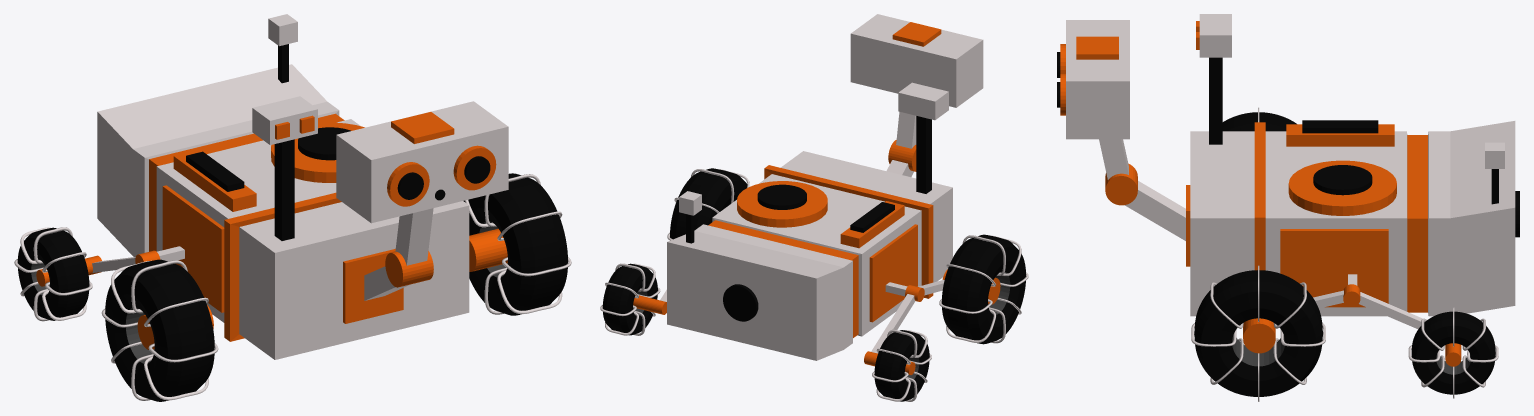
3 views of the same model, side by side, from view 1: azimuth 30°, elevation 25°; view 2: azimuth 150°, elevation 25°; view 3: azimuth 270°, elevation 25° (orthographic). The views are drawn at different scales.
Visible parts, largest first — view 1: Main Body, Head, FRW Base, FLW Base, RW Body Link, BRW Base, Body Head Link, FRW Grip, Secondary Camera Stick, Secondary Camera Block, FRW Grip.001, Head Link 2 (+15 smaller); view 2: Main Body, Head, FRW Base, RW Body Link, BRW Base, Disc Base, BLW Base, FLW Base, Secondary Camera Block, FRW Grip, Secondary Camera Stick, Disc Top (+13 smaller); view 3: Main Body, FLW Base, Head, Body LW, BLW Base, Disc Base, Body Rect Base, Head Link 1, FRW Grip.001, Disc Top, Secondary Camera Block, Secondary Camera Stick (+11 smaller).
Boxes of the visible parts, box(x1,y1,x2,y2) form: Main Body: box(97, 64, 469, 359); Head: box(336, 101, 508, 223); FRW Base: box(105, 259, 214, 401); FLW Base: box(463, 173, 567, 315); RW Body Link: box(162, 185, 224, 312); BRW Base: box(17, 227, 89, 320); Body Head Link: box(343, 249, 403, 323); FRW Grip: box(101, 260, 218, 400); Secondary Camera Stick: box(274, 139, 294, 240); Secondary Camera Block: box(252, 96, 317, 145); FRW Grip.001: box(465, 174, 571, 314); Head Link 2: box(395, 208, 433, 265); Main Body: box(667, 151, 952, 360); Head: box(850, 14, 983, 107); FRW Base: box(941, 234, 1025, 344); RW Body Link: box(869, 224, 917, 322); BRW Base: box(874, 330, 929, 401); Disc Base: box(737, 181, 827, 227); BLW Base: box(602, 263, 657, 335); FLW Base: box(670, 168, 747, 239); Secondary Camera Block: box(898, 82, 948, 120); FRW Grip: box(939, 235, 1028, 343); Secondary Camera Stick: box(916, 116, 931, 193); Disc Top: box(757, 184, 806, 209); Main Body: box(1190, 121, 1515, 316); FLW Base: box(1194, 270, 1322, 396); Head: box(1066, 20, 1129, 139); Body LW: box(1280, 229, 1388, 307); BLW Base: box(1411, 311, 1495, 394); Disc Base: box(1288, 160, 1396, 215); Body Rect Base: box(1286, 124, 1394, 146); Head Link 1: box(1125, 181, 1185, 240); FRW Grip.001: box(1191, 265, 1325, 401); Disc Top: box(1313, 165, 1372, 195); Secondary Camera Block: box(1199, 14, 1231, 57); Secondary Camera Stick: box(1209, 57, 1222, 144).
Bounding box in the file's own units: 8 × 5.49 × 8.55.
